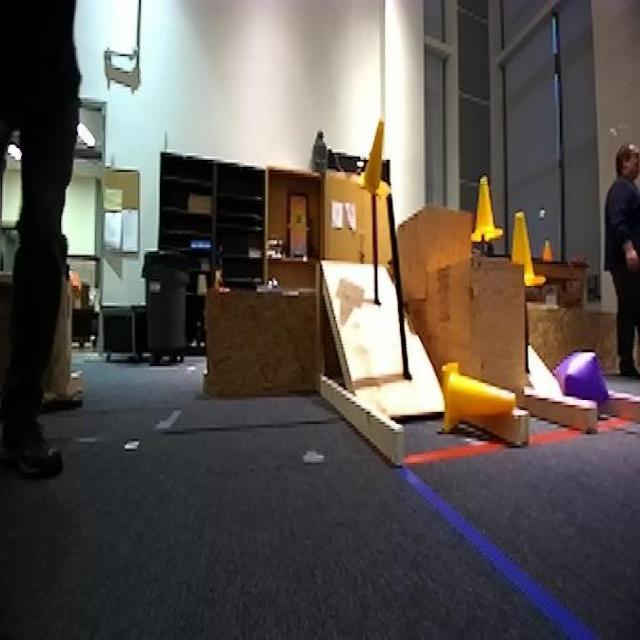frc_cone: (438, 360, 516, 430), (510, 208, 546, 292), (359, 116, 392, 196), (468, 172, 502, 243)
frc_cube: (554, 352, 612, 410)
